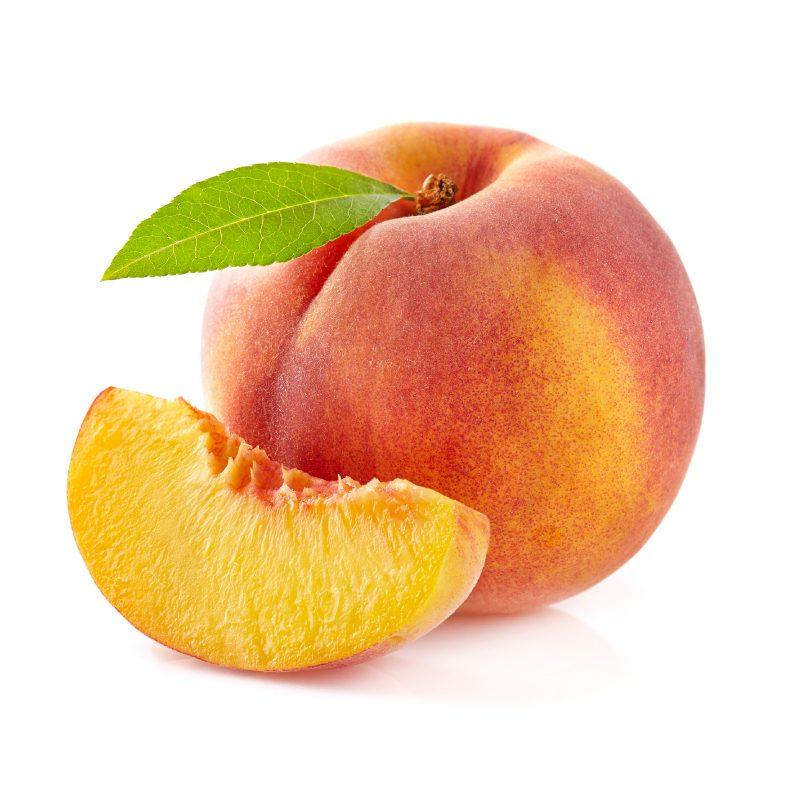Peach Ripe: (202, 124, 704, 615)
